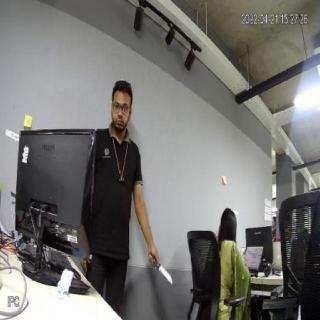knife: (151, 260, 177, 291)
